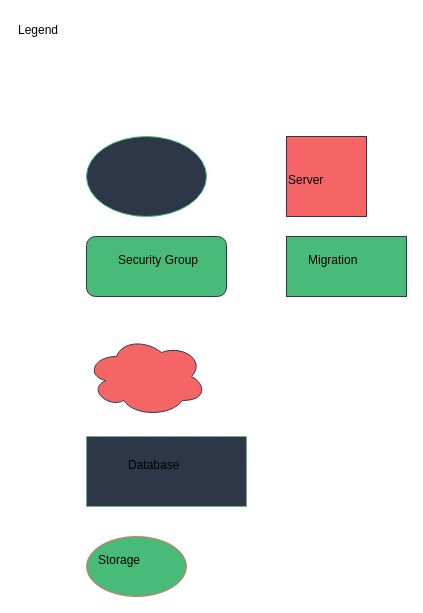
Image size: 423x613. Some labels were removed from this diagram. The shapes that lost their labels are listed below. From the top down, each one's box as (x1, y1, x2, y2) in pixels, then its label:
(86, 136, 206, 216): Virtual Machine
(86, 336, 206, 416): Cloud
